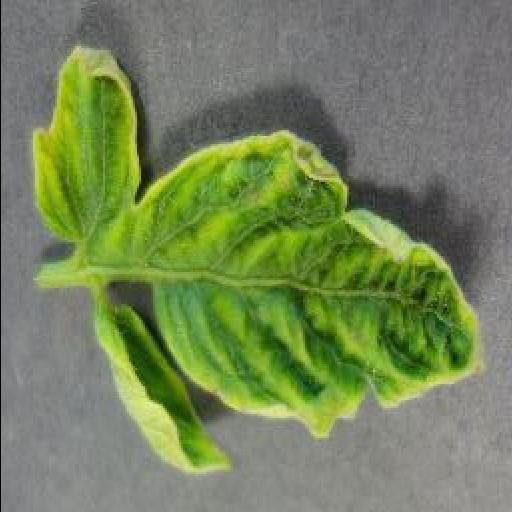disease_tomato: (28, 42, 490, 472)
